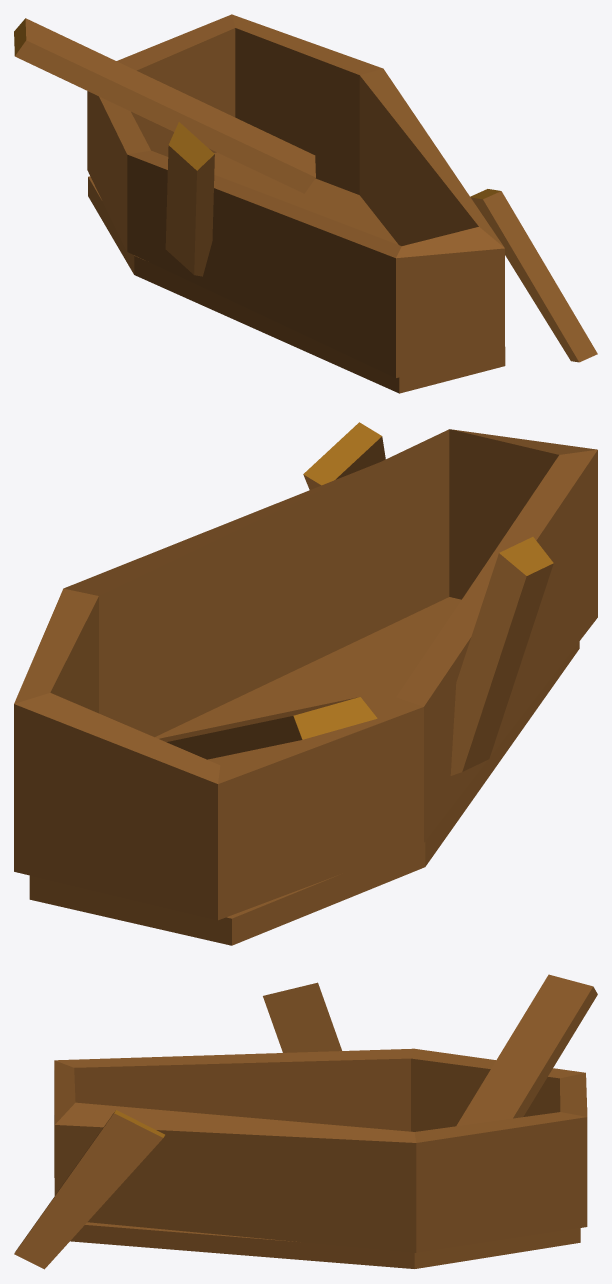
Rendered from caixao_quatro.fbx.
3 views of the same model, one above another, from view 1: azimuth 30°, elevation 25°; view 2: azimuth 150°, elevation 25°; view 3: azimuth 270°, elevation 25° (orthographic). The views are drawn at different scales.
Visible parts, largest first — view 1: caixao_quatro; view 2: caixao_quatro; view 3: caixao_quatro.
Part boxes in pixels (box(x1,y1,x2,y2)): caixao_quatro: box(14, 14, 597, 393); caixao_quatro: box(14, 422, 597, 945); caixao_quatro: box(14, 974, 597, 1269).
Bounding box in the file's own units: 201 × 122 × 370.
